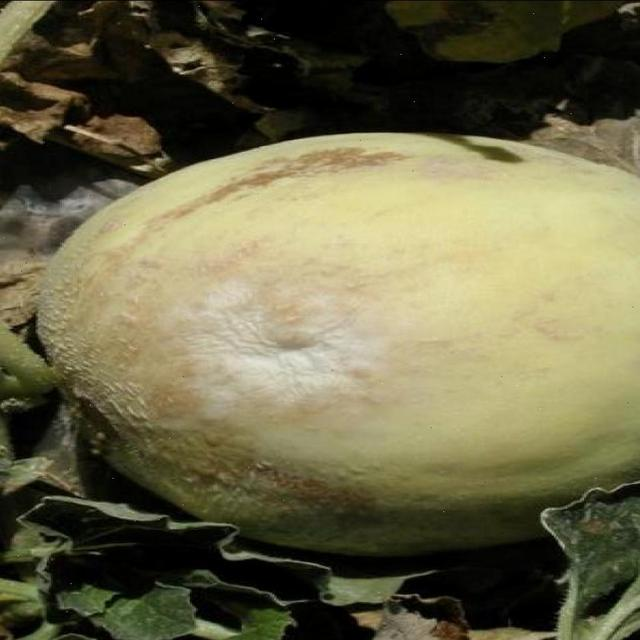Sunscald Fruit: (91, 179, 268, 294)
